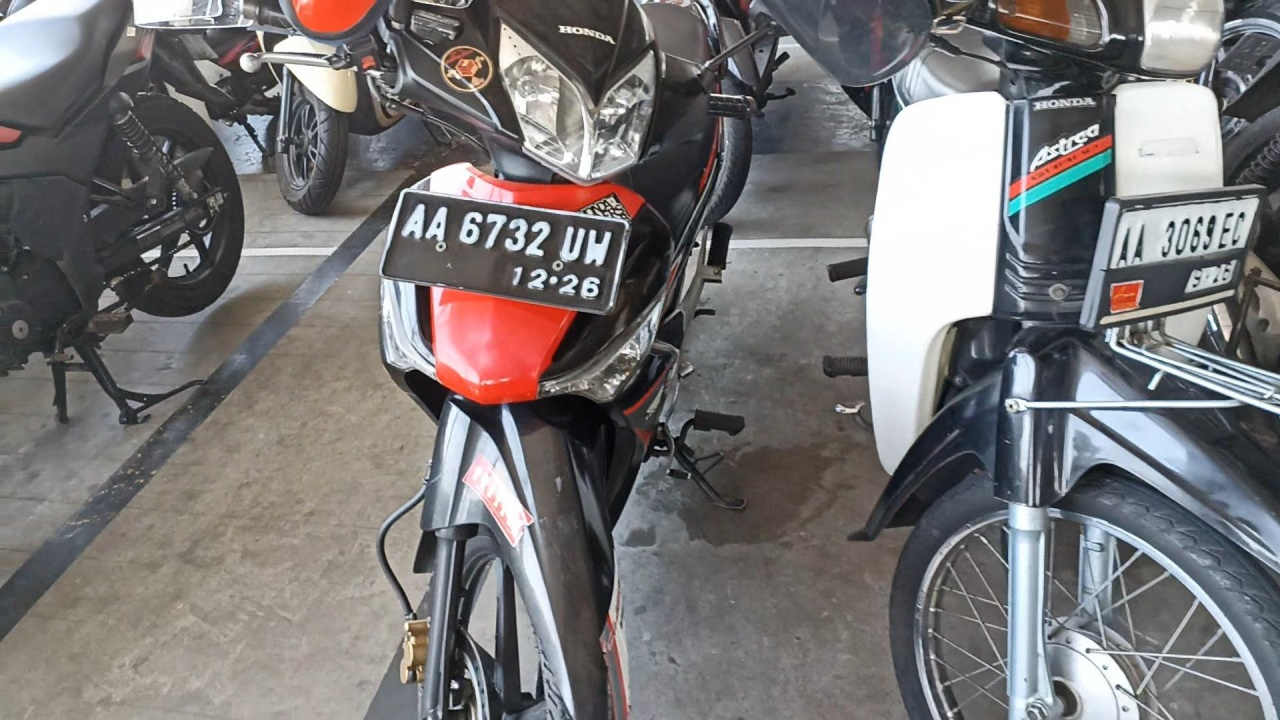plate: (380, 190, 630, 313), (1097, 193, 1264, 325)
